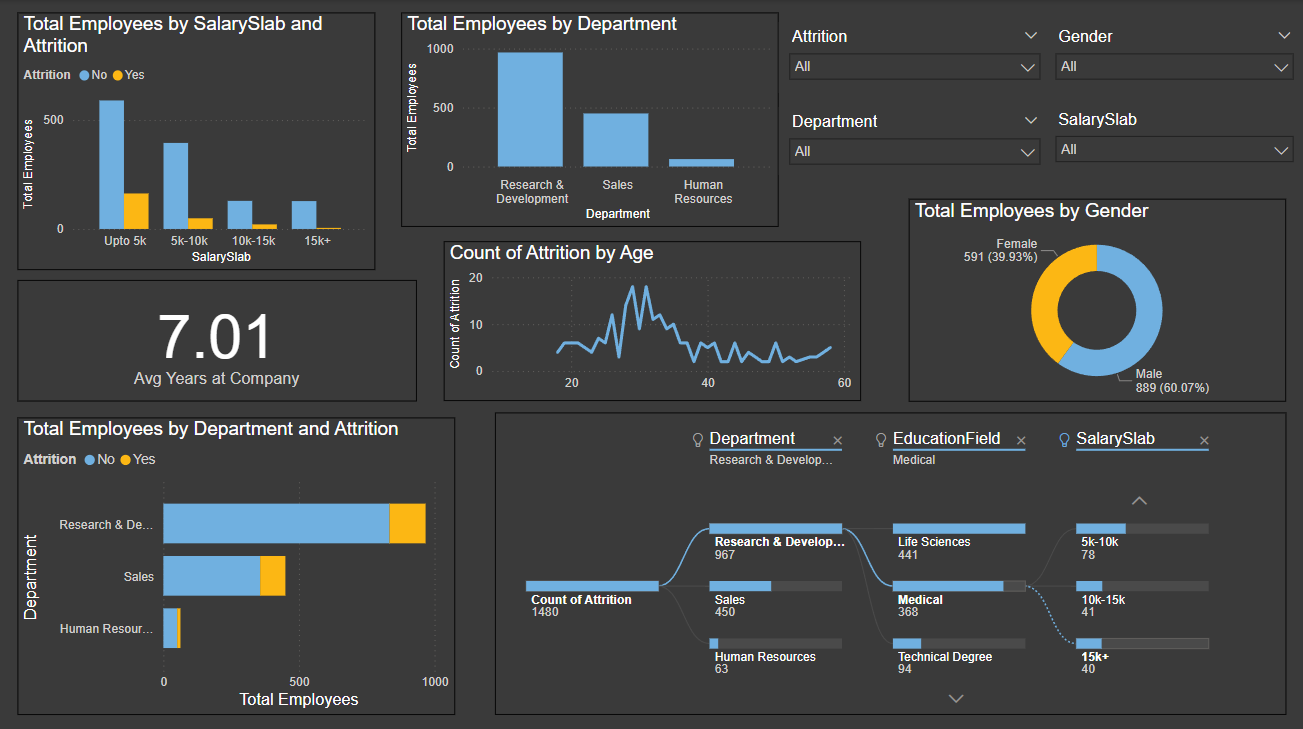

The page's visual inventory and layout, read from the dashboard file:
{"tool":"powerbi","page":{"name":"Page 1","canvas":[1280,720],"ordinal":0},"visuals":[{"type":"clusteredColumnChart","fields":{"Category":["HR_Analytics.Department"],"Y":["HR_Analytics.Total Employees"]},"box":[393.7,12.5,370.2,210.2],"z":0},{"type":"barChart","fields":{"Category":["HR_Analytics.Department"],"Series":["HR_Analytics.Attrition"],"Y":["HR_Analytics.Total Employees"]},"box":[17.3,409.4,429.8,291.8],"z":1000},{"type":"donutChart","fields":{"Category":["HR_Analytics.Gender"],"Y":["HR_Analytics.Total Employees"]},"box":[892.5,194.5,370.2,199.2],"z":2000},{"type":"clusteredColumnChart","fields":{"Category":["HR_Analytics.SalarySlab"],"Series":["HR_Analytics.Attrition"],"Y":["HR_Analytics.Total Employees"]},"box":[17.3,12.5,351.4,252.5],"z":3000},{"type":"lineChart","fields":{"Category":["HR_Analytics.Age"],"Y":["CountNonNull(HR_Analytics.Attrition)"]},"box":[436.1,236.9,409.4,156.9],"z":4000},{"type":"slicer","fields":{"Values":["HR_Analytics.Department"]},"box":[763.9,105.1,266.7,65.9],"z":5000},{"type":"slicer","fields":{"Values":["HR_Analytics.Gender"]},"box":[1025.9,22,254.1,69],"z":6000},{"type":"slicer","fields":{"Values":["HR_Analytics.SalarySlab"]},"box":[1025.9,103.5,254.1,67.5],"z":7000},{"type":"slicer","fields":{"Values":["HR_Analytics.Attrition"]},"box":[763.9,22,266.7,69],"z":8000},{"type":"card","fields":{"Values":["HR_Analytics.Avg Years at Company"]},"box":[17.3,274.5,392.2,119.2],"z":10001},{"type":"decompositionTreeVisual","fields":{"Analyze":["CountNonNull(HR_Analytics.Attrition)"],"ExplainBy":["HR_Analytics.Department","HR_Analytics.EducationField","HR_Analytics.SalarySlab"]},"box":[486.3,404.7,776.5,296.5],"z":10002}]}

Visuals, with their boxes in screenshot pixels (x1, y1, x2, y2), scaled from the page's 1280x720 canvas onto the 1303x729 screenshot:
clusteredColumnChart - HR_Analytics.Department x HR_Analytics.Total Employees: (401,13,778,225)
barChart - HR_Analytics.Department x HR_Analytics.Attrition: (18,415,455,710)
donutChart - HR_Analytics.Gender x HR_Analytics.Total Employees: (909,197,1285,399)
clusteredColumnChart - HR_Analytics.SalarySlab x HR_Analytics.Attrition: (18,13,375,268)
lineChart - HR_Analytics.Age x CountNonNull(HR_Analytics.Attrition): (444,240,861,399)
slicer - HR_Analytics.Department: (778,106,1049,173)
slicer - HR_Analytics.Gender: (1044,22,1302,92)
slicer - HR_Analytics.SalarySlab: (1044,105,1302,173)
slicer - HR_Analytics.Attrition: (778,22,1049,92)
card - HR_Analytics.Avg Years at Company: (18,278,417,399)
decompositionTreeVisual - CountNonNull(HR_Analytics.Attrition) x HR_Analytics.Department: (495,410,1285,710)
